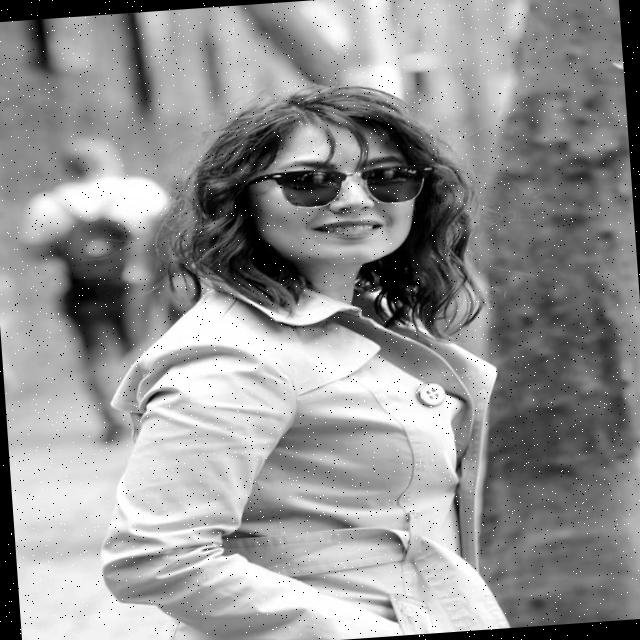Happiness: (248, 109, 435, 279)
